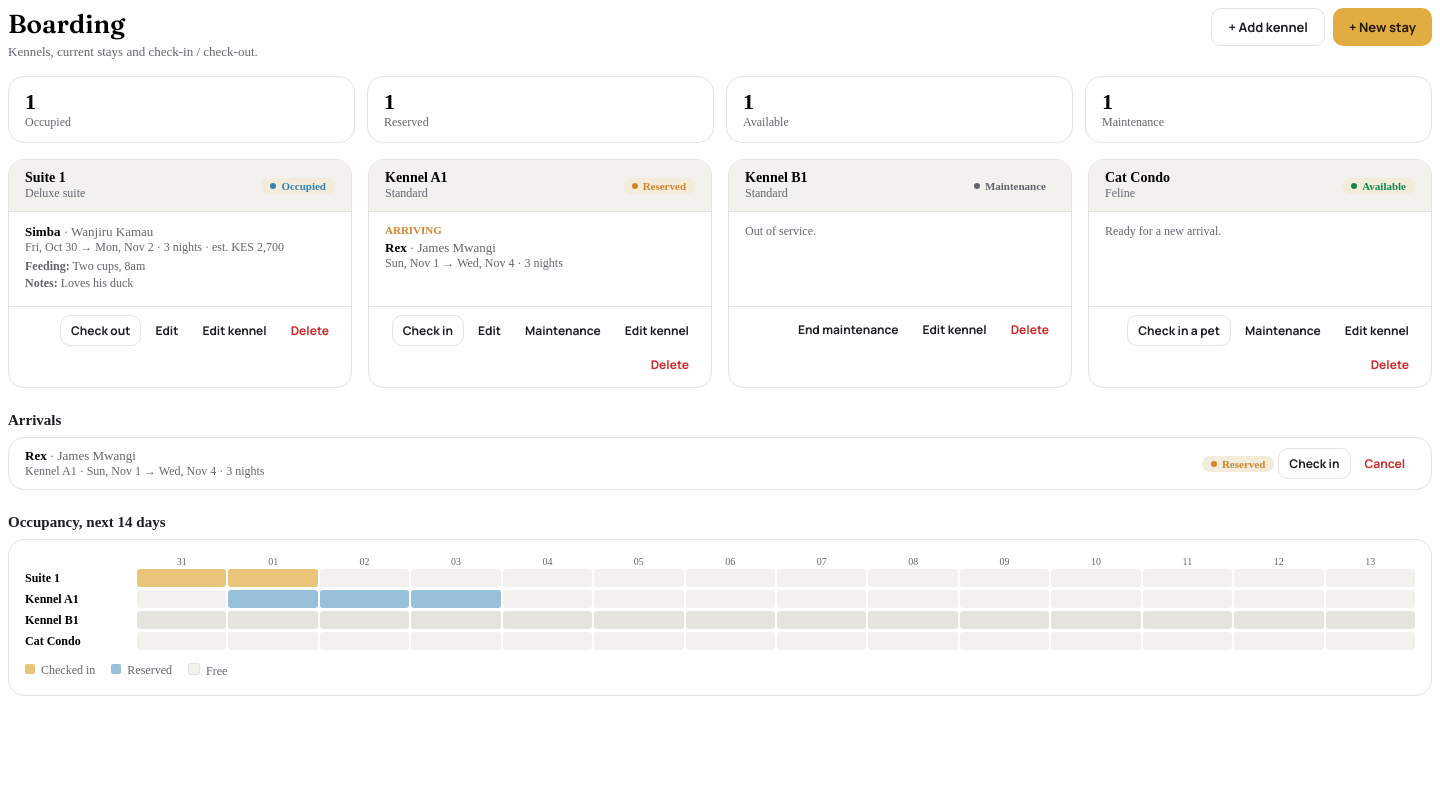
Scenario: BoardingPage › tells staff when a checkout is early
Click the button with aria-label "Check out Simba" at (101, 330), box top-left (60, 315), bottom-right (141, 346)
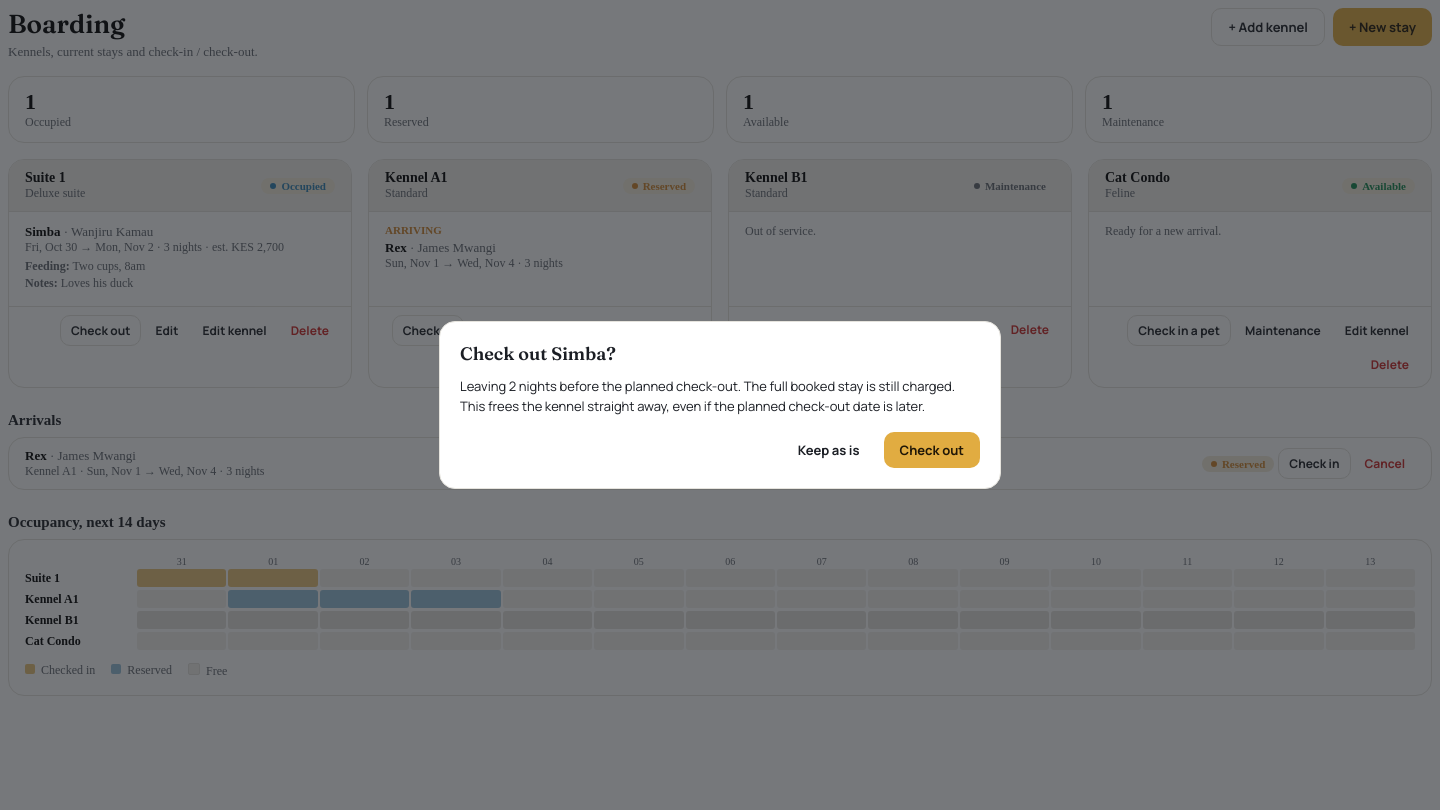
Now the text "full booked stay is still charged" is shown, box top-left (460, 377), bottom-right (955, 414)
